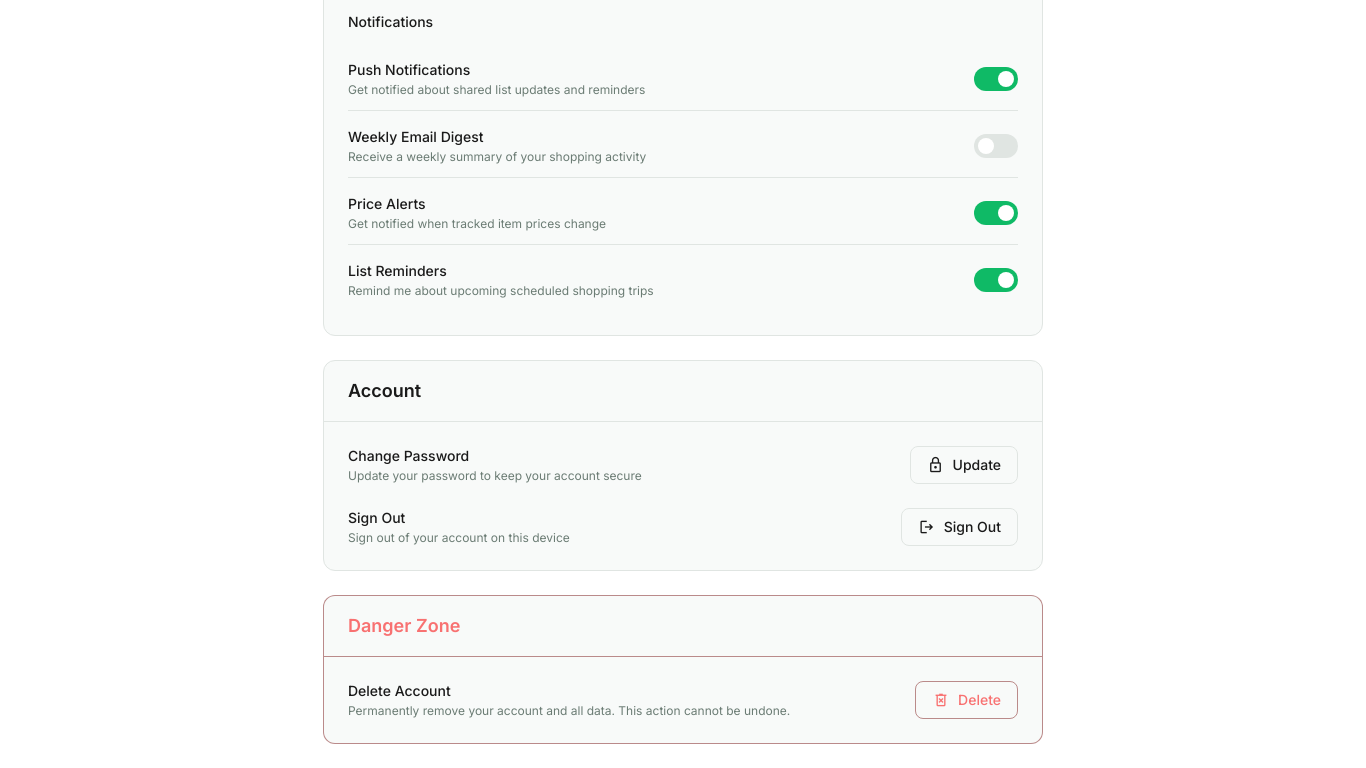
SettingsPage › validates mismatched passwords
(page scrolled)
Click the button "Update".
click(964, 465)  # box [910,446,1018,484]
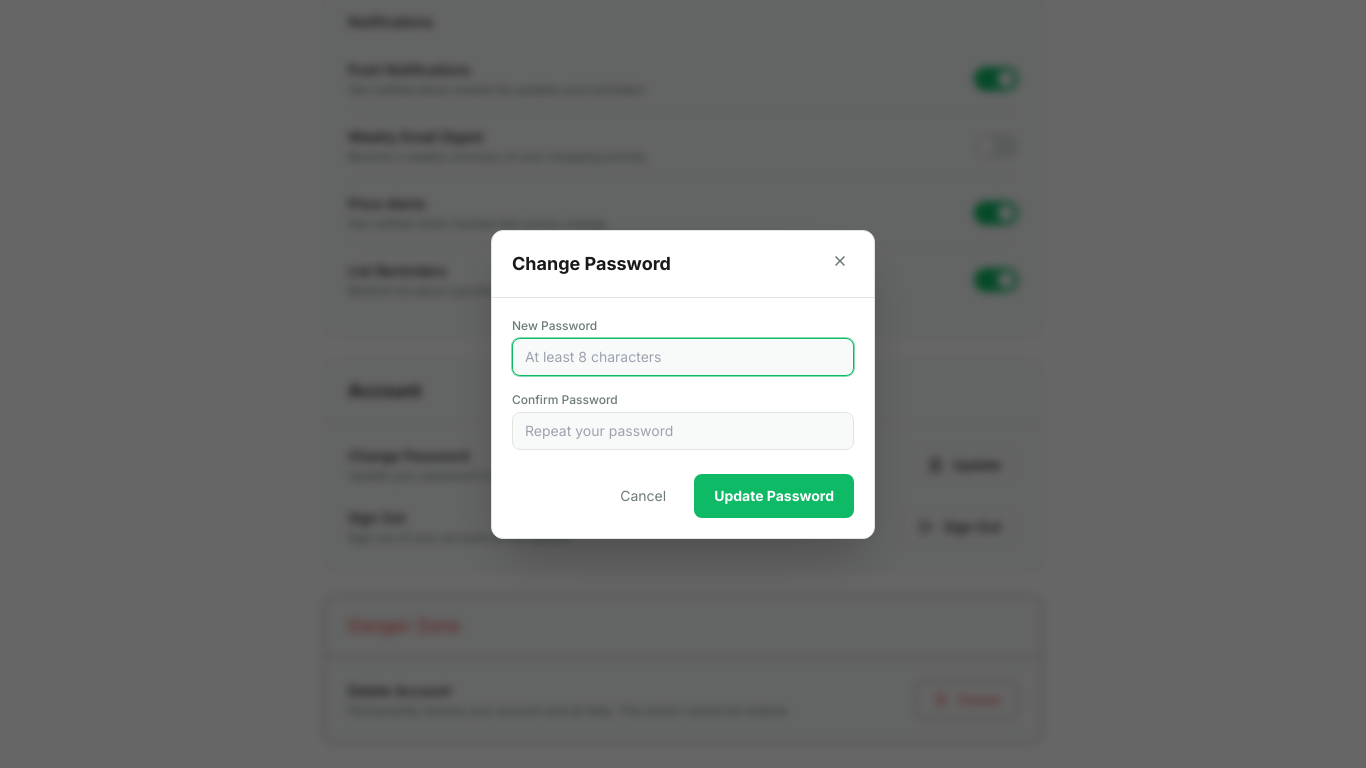
Type "password123" into the password field with placeholder "At least 8 characters".
click(683, 356); type("password123")  # box [512,338,854,376]
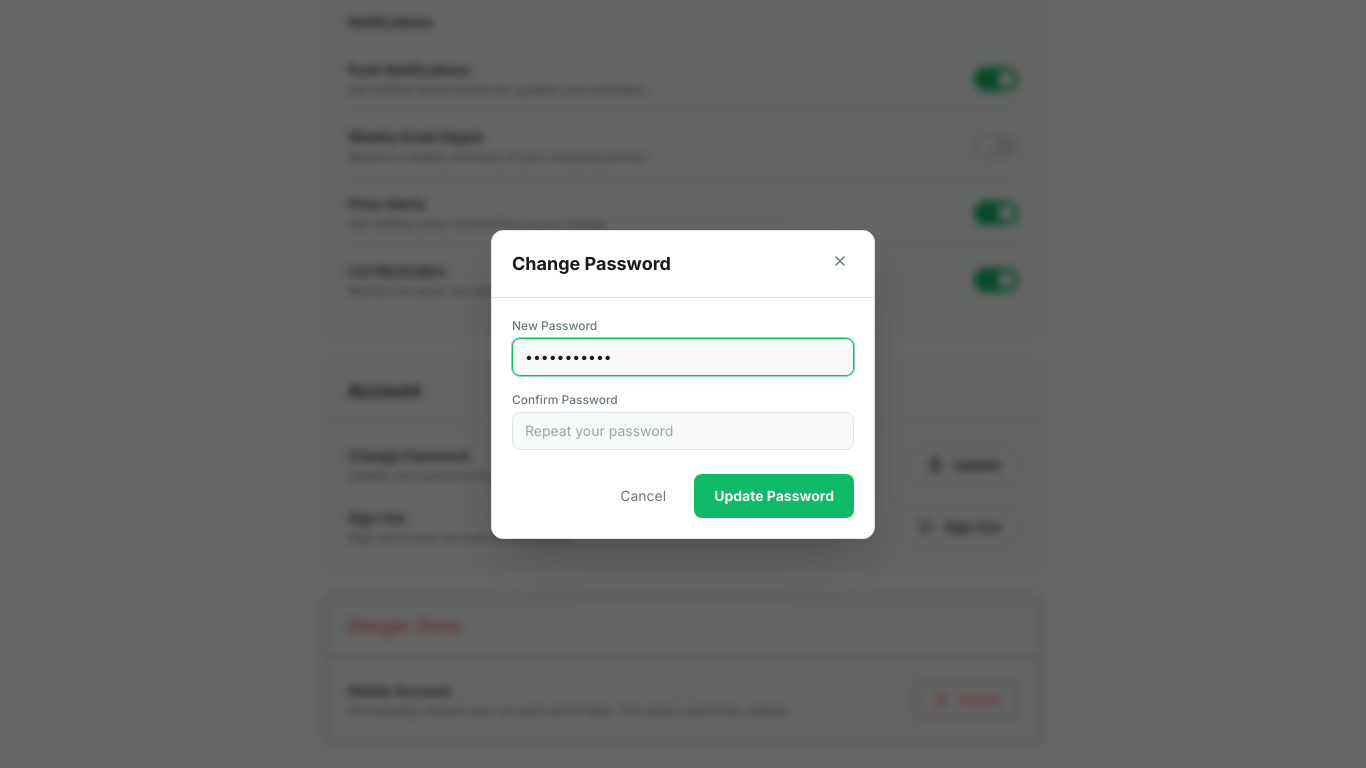
Type "different123" into the password field with placeholder "Repeat your password".
click(683, 430); type("different123")  # box [512,412,854,450]
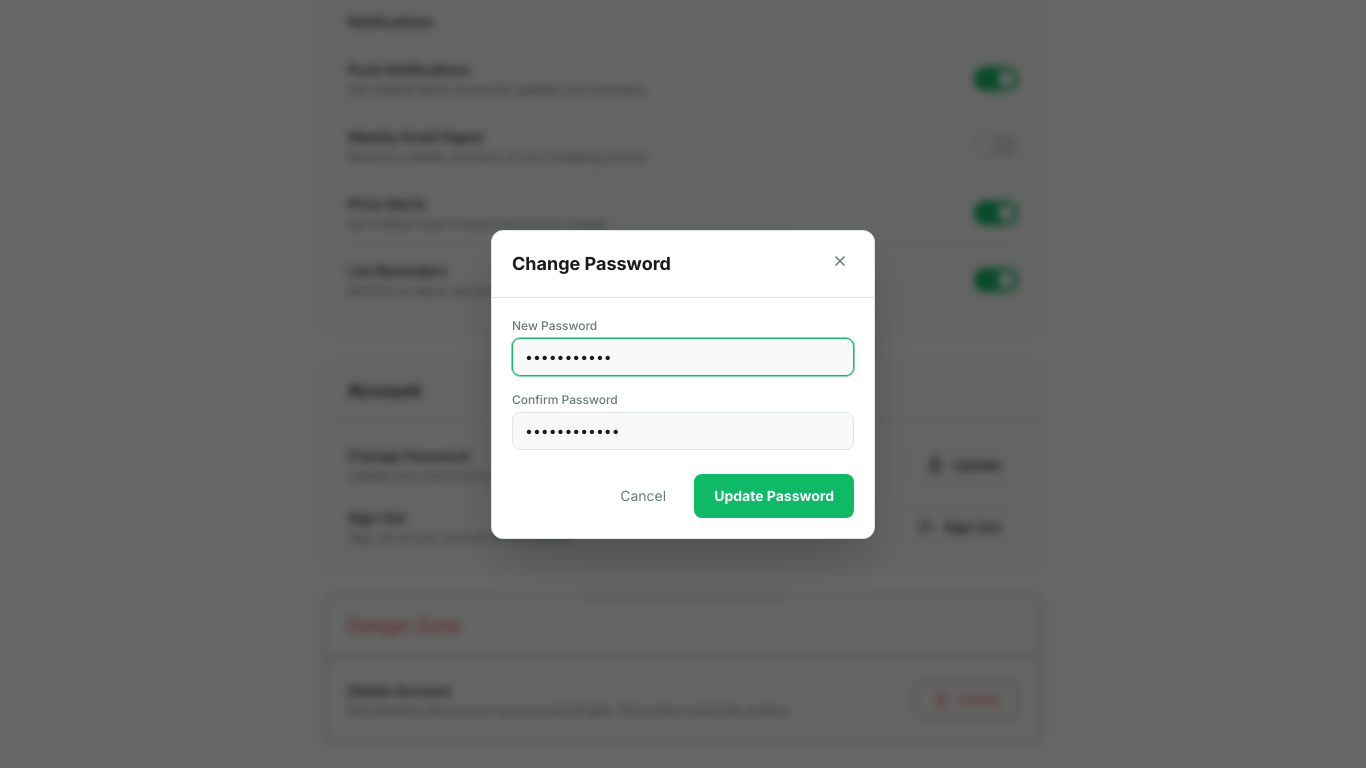
Click the button "Update Password".
click(774, 496)  # box [694,474,854,518]
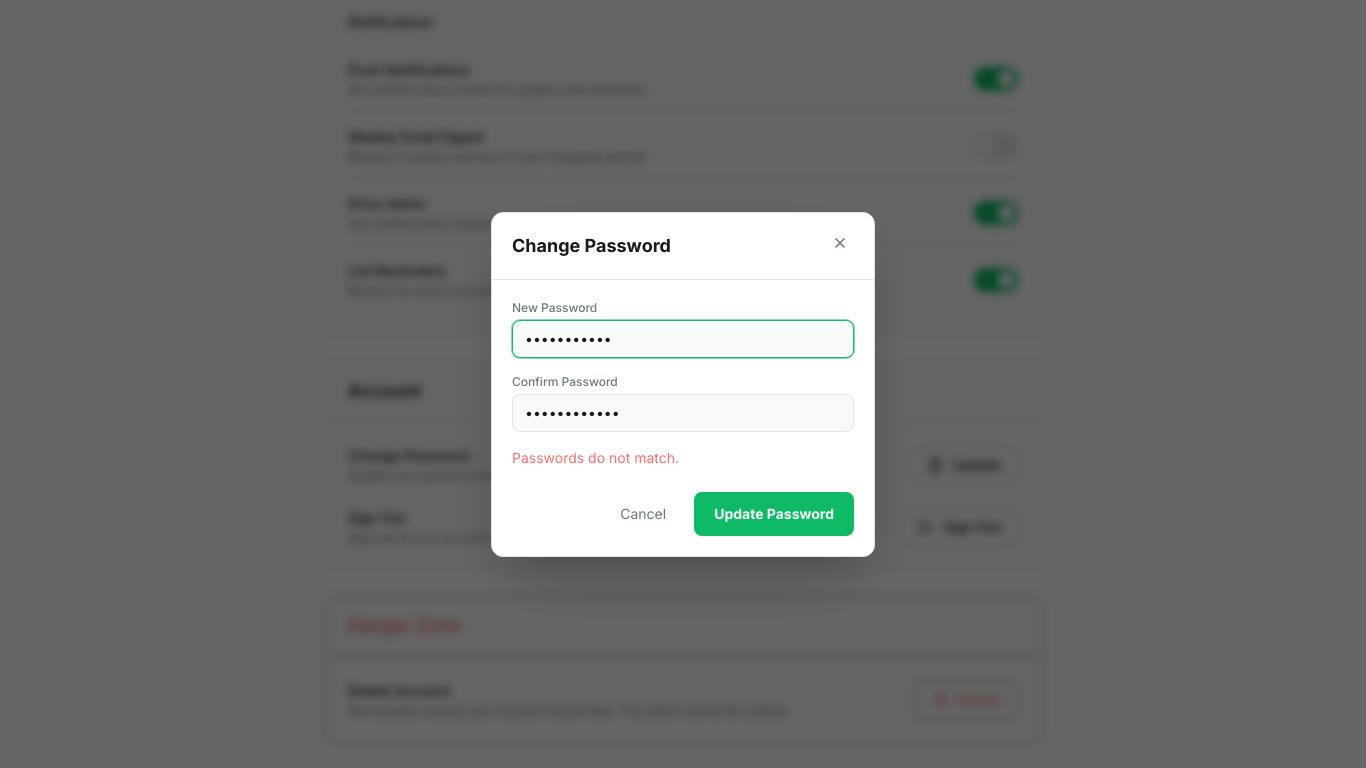
expect the text "Passwords do not match." is shown: met, box [512,448,679,466]
